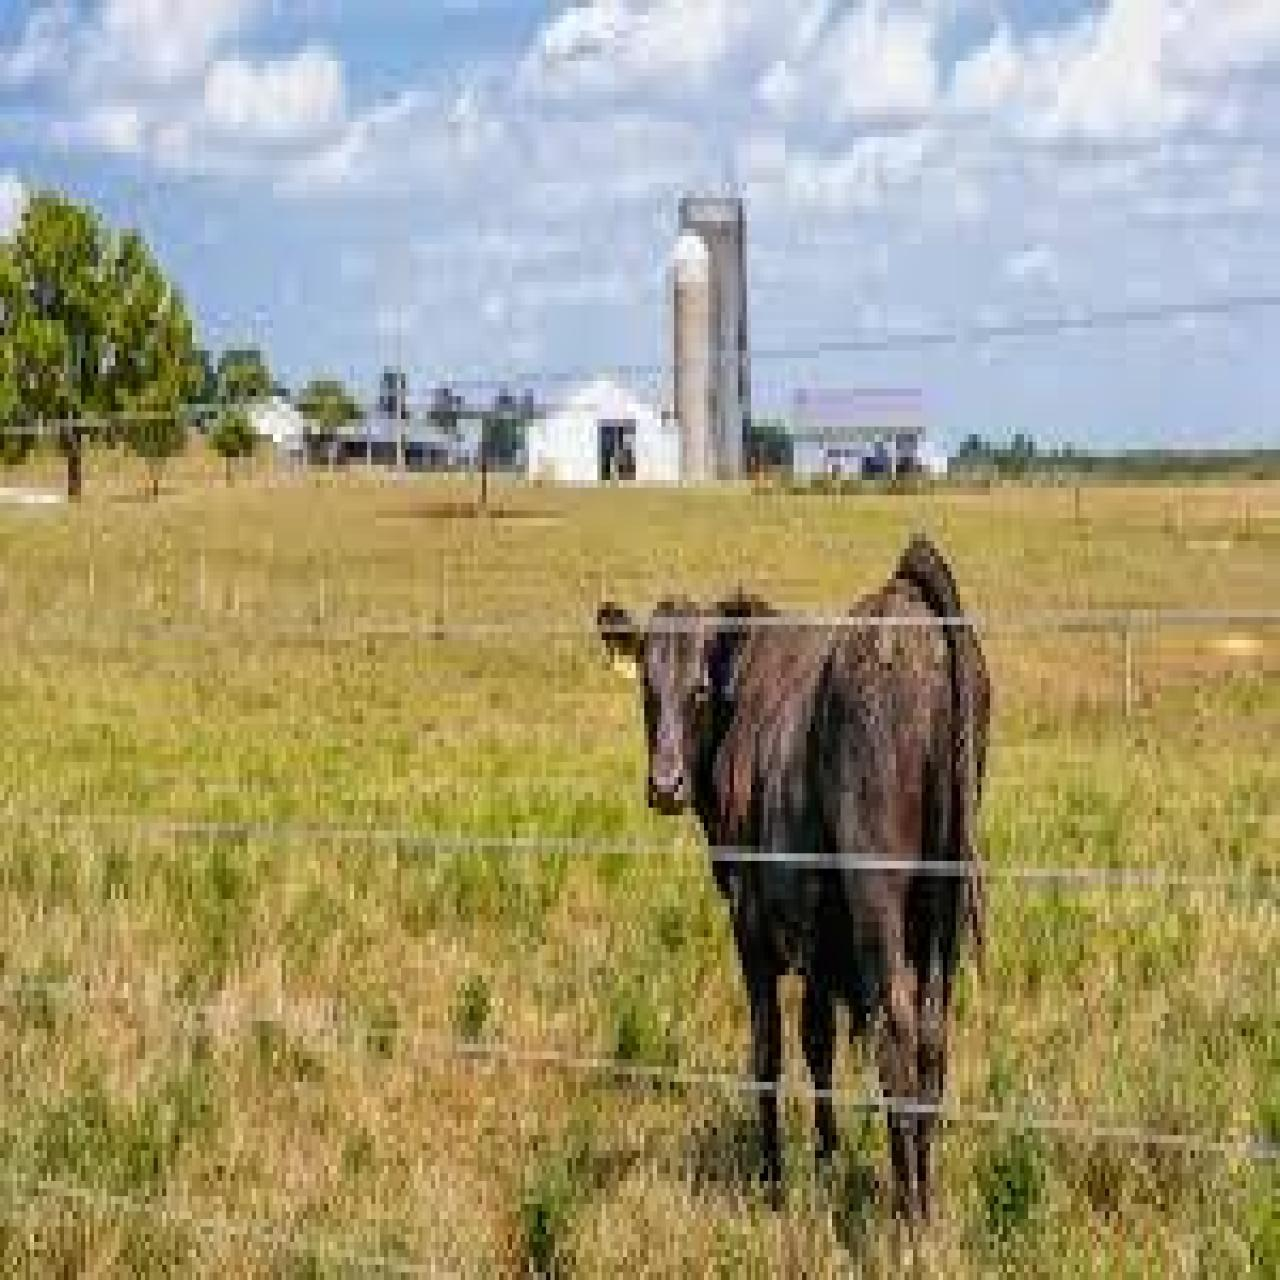cow: (595, 537, 992, 1223)
